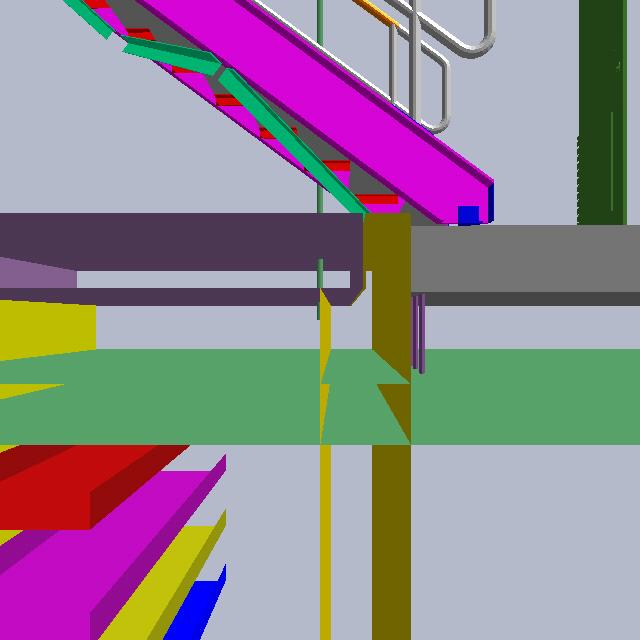Poste: (309, 1, 328, 329)
